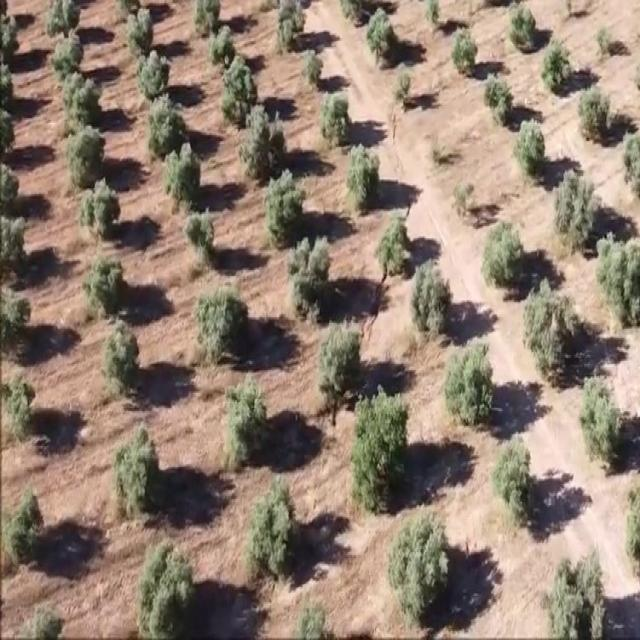trees: (346, 384, 418, 514), (385, 511, 456, 616), (515, 274, 586, 376), (137, 535, 204, 638), (543, 544, 614, 640), (246, 476, 302, 582), (574, 367, 634, 465), (489, 426, 546, 519), (312, 318, 372, 404), (402, 256, 460, 343), (222, 377, 275, 467), (551, 169, 608, 252), (446, 343, 501, 429), (116, 424, 168, 512), (288, 231, 336, 324), (595, 229, 640, 326), (197, 286, 251, 364), (478, 216, 528, 298), (241, 102, 287, 185), (264, 164, 310, 245), (0, 494, 50, 568), (84, 246, 130, 322), (162, 140, 206, 216), (61, 64, 107, 134), (104, 318, 144, 398), (374, 212, 418, 284), (509, 109, 554, 178), (0, 369, 43, 441), (64, 126, 112, 190), (78, 176, 125, 240), (344, 138, 384, 212), (220, 54, 262, 124), (144, 91, 186, 161), (575, 80, 617, 146), (133, 47, 175, 108), (0, 282, 35, 354), (183, 203, 221, 269), (318, 82, 354, 150), (541, 34, 578, 99), (483, 67, 521, 127), (48, 29, 89, 83), (0, 206, 29, 273), (274, 0, 308, 57), (507, 2, 543, 54), (125, 3, 159, 57), (48, 0, 86, 43), (451, 24, 481, 78), (209, 19, 237, 71), (300, 46, 325, 93)
